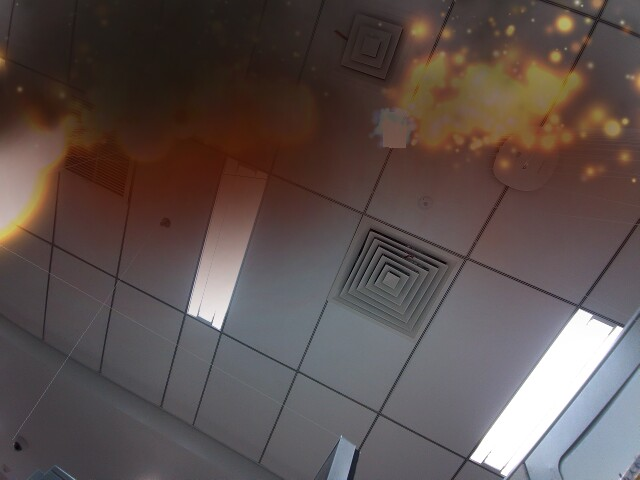fire: (0, 111, 63, 247)
